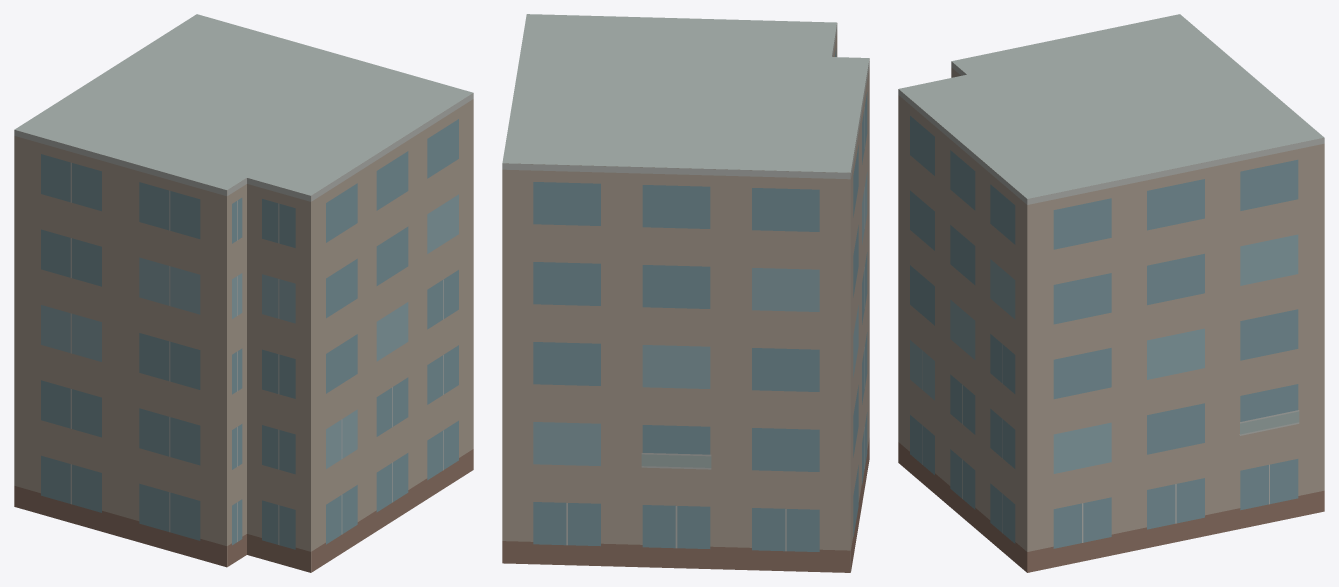
The model's file is survey-upis-32746011.glb.
3 views of the same model, side by side, from view 1: azimuth 30°, elevation 25°; view 2: azimuth 150°, elevation 25°; view 3: azimuth 270°, elevation 25° (orthographic). The views are drawn at different scales.
Parts seen in each view (by area): view 1: survey-upis-32746011.tmp; view 2: survey-upis-32746011.tmp; view 3: survey-upis-32746011.tmp.
Boxes of the visible parts, x1,y1,x2,y2 form: survey-upis-32746011.tmp: [14, 14, 473, 572]; survey-upis-32746011.tmp: [502, 14, 869, 572]; survey-upis-32746011.tmp: [898, 14, 1324, 572].
Bounding box in the file's own units: 16.14 × 15.2 × 15.71.
